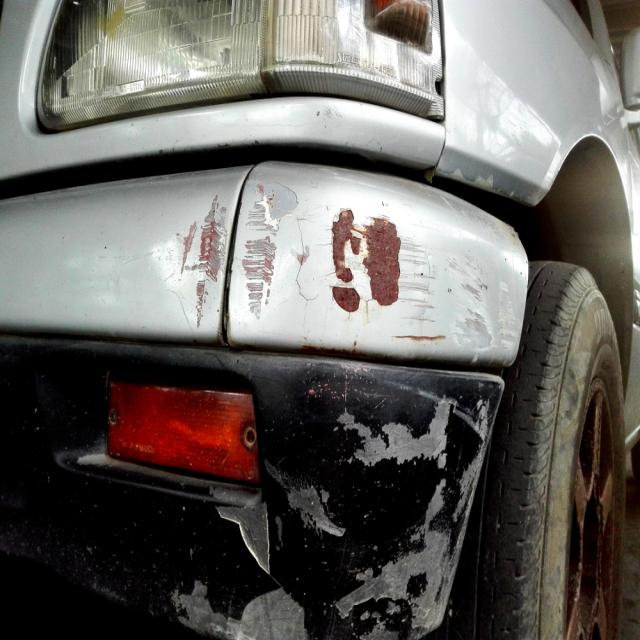scratch: (165, 363, 490, 640), (242, 179, 519, 353), (175, 194, 224, 330)
